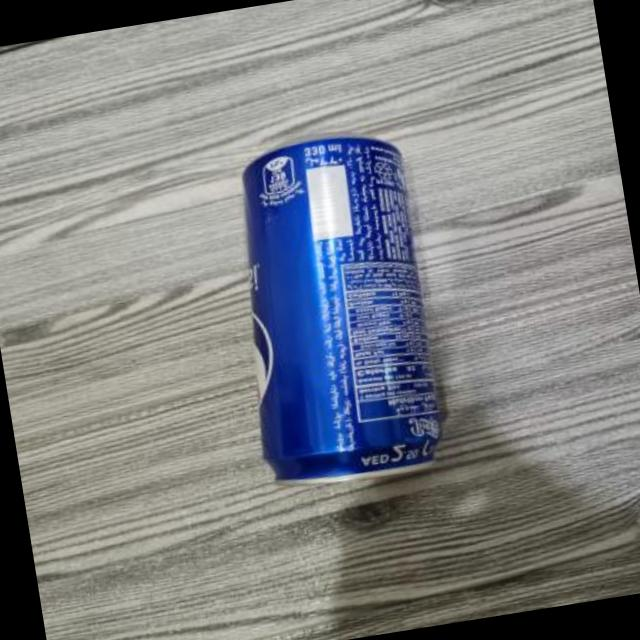metal: (246, 136, 442, 476)
